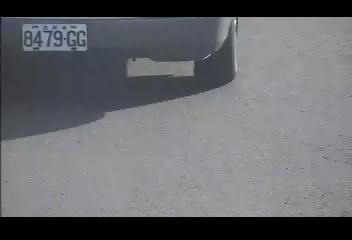plate: (19, 22, 90, 54)
